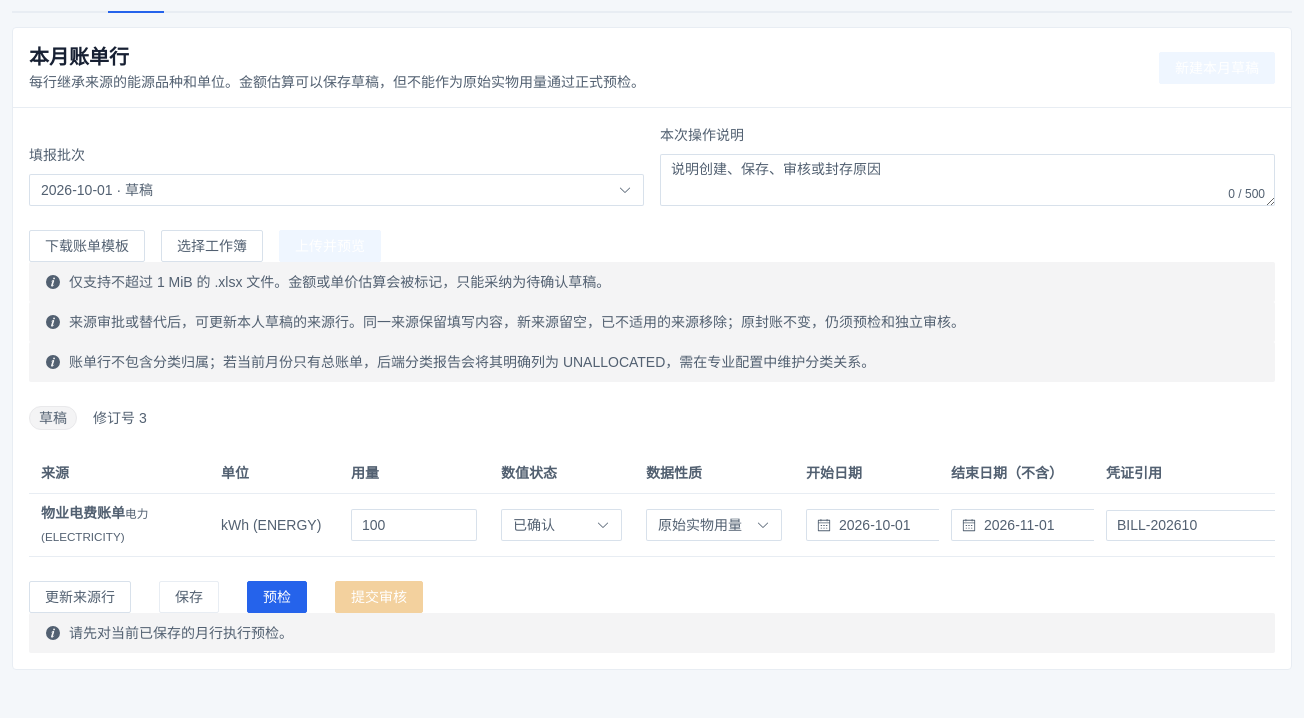
Test: 能源账单填报页 › 月行被编辑后标记为未保存，并阻止直接预检
(page scrolled)
Replace the text in the field with "120". click: (414, 525)
box: [362,510,466,540]
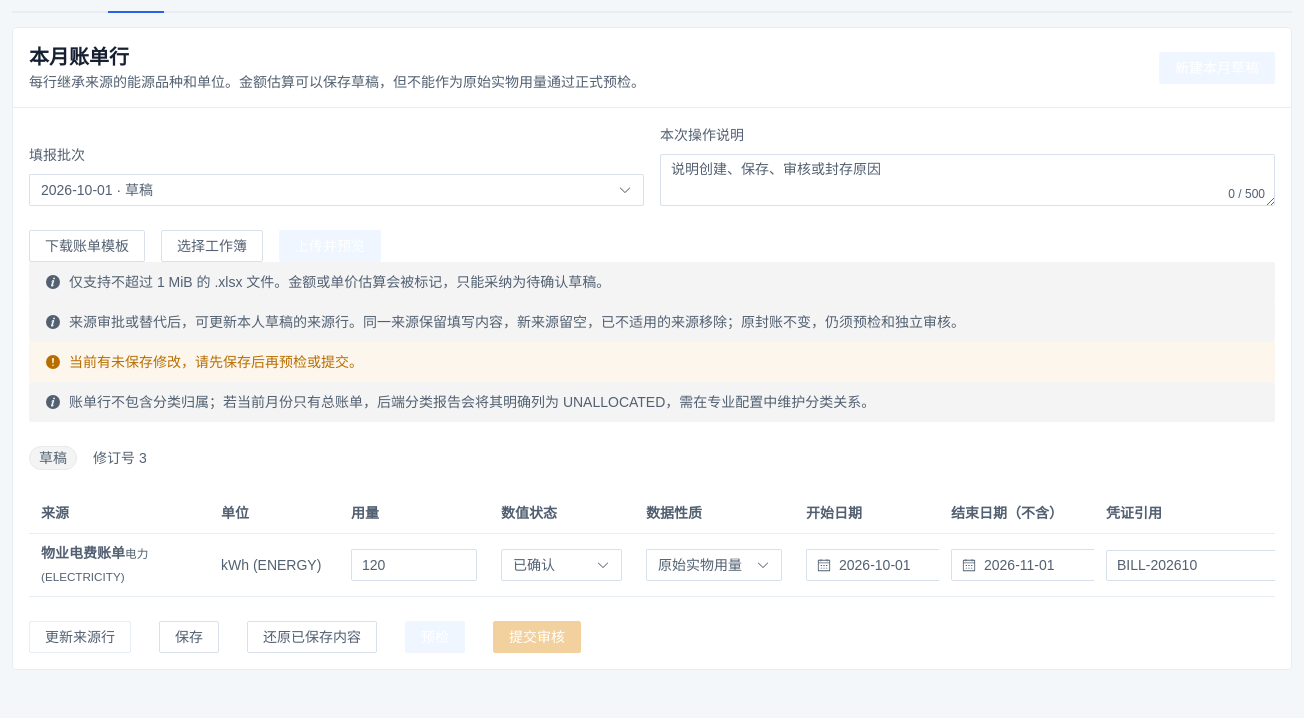
Expected: the button with test id "batch-save" is enabled, [159,621,219,653]
